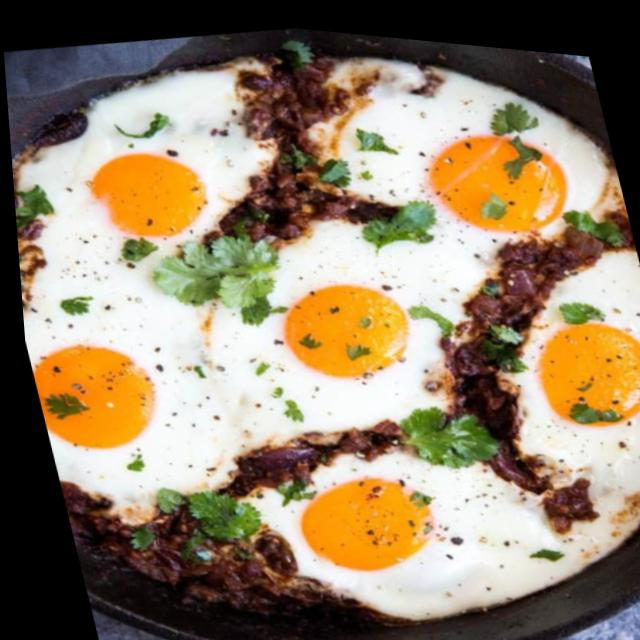EGG: (12, 41, 640, 624)
